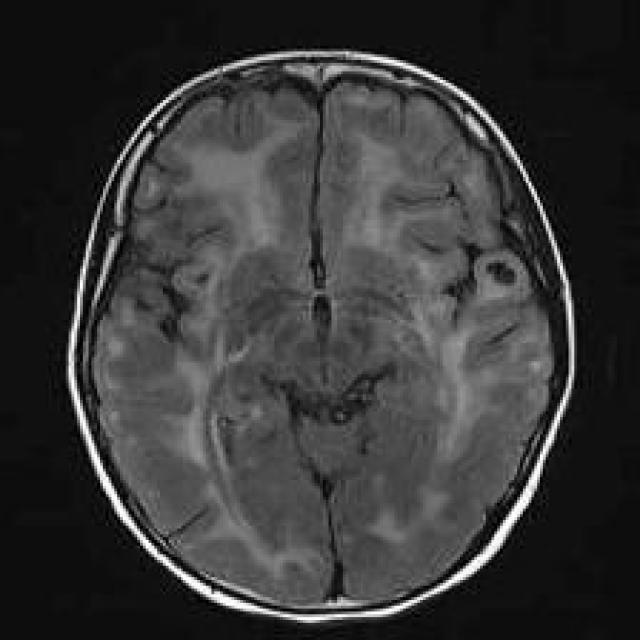no_tumor: (65, 43, 591, 621)
